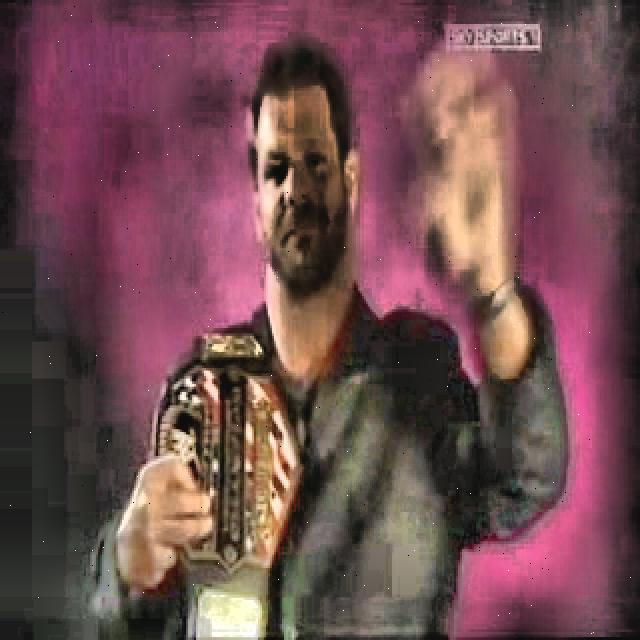L: (90, 39, 567, 639)
